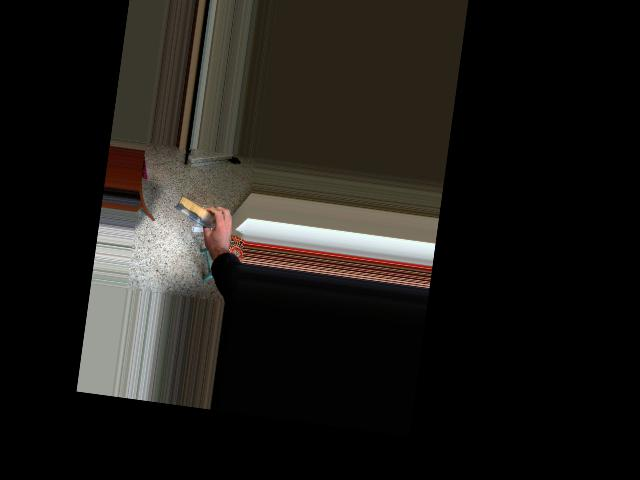cheese: (168, 180, 241, 242)
